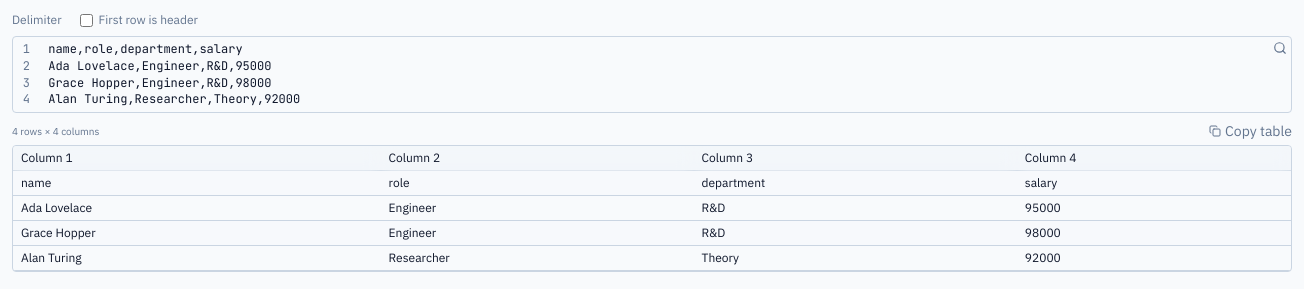
it: CsvViewerWidget › shows a failure state when the clipboard write is rejected
Click the button "Copy table" at (1251, 131), box [1209, 121, 1292, 141]
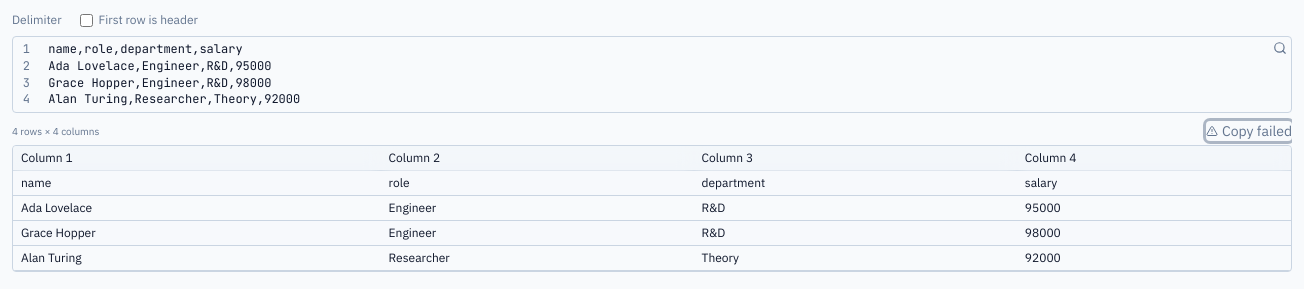
Check: the button "Copy failed" is shown, box [1206, 121, 1292, 141]
